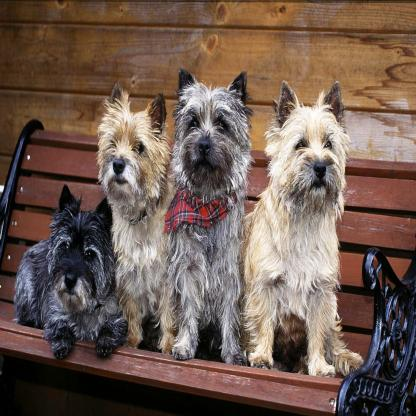Cairn Terrier: (152, 23, 257, 370), (241, 79, 361, 382), (84, 55, 176, 358), (28, 169, 130, 373)
